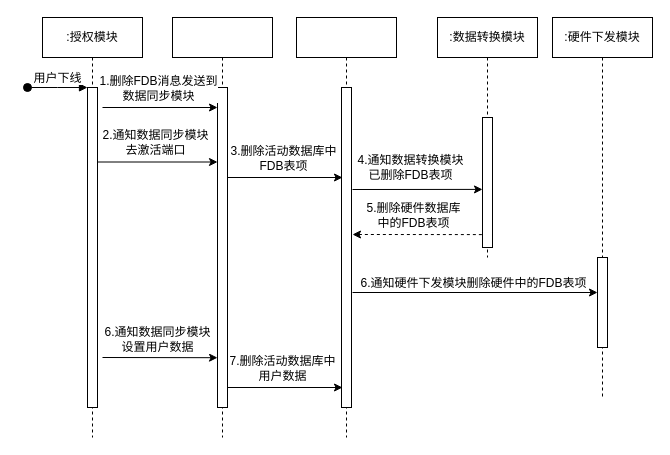
Image size: 670x455. Some labels were removed from this diagram. The box of each missing label's shape, as (x1, y1, x2, y2) in pixels:
:数据同步模块: (172, 16, 272, 438)
:数据库: (296, 16, 396, 438)
